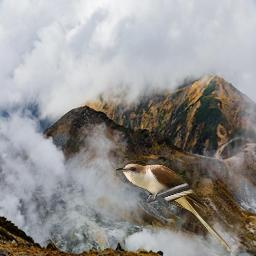Cuckoo: (114, 162, 234, 254)
